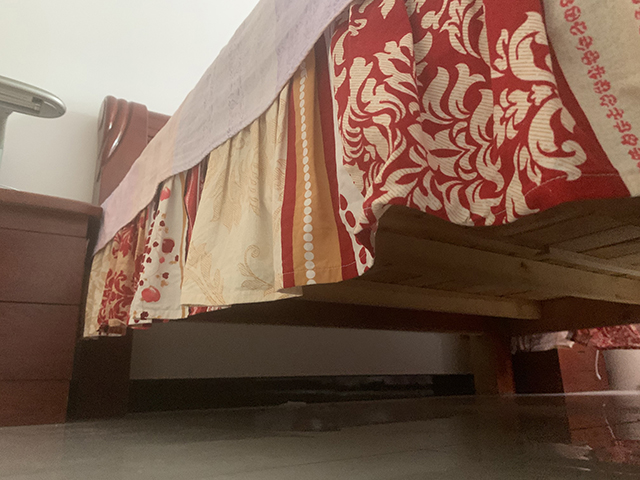bed: (70, 1, 640, 422)
cabinet: (1, 187, 104, 427), (511, 344, 612, 395)
trashcan: (602, 347, 640, 392)
